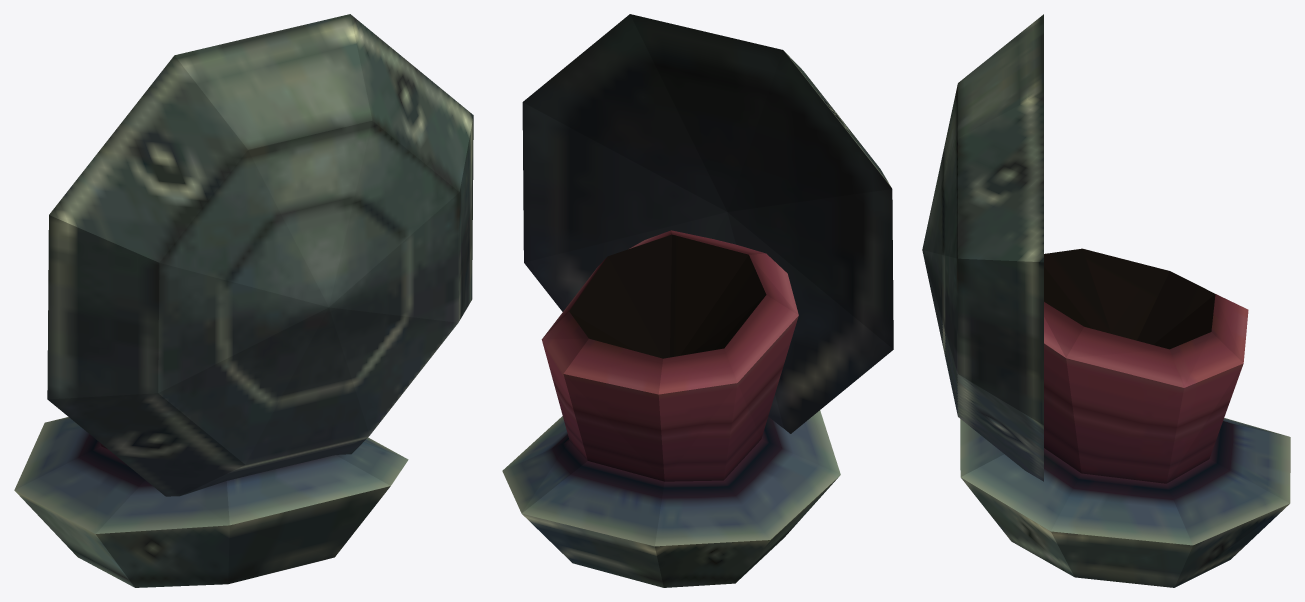
Rendered from Panda_strikeGauntlet_right.obj.
3 views of the same model, side by side, from view 1: azimuth 30°, elevation 25°; view 2: azimuth 150°, elevation 25°; view 3: azimuth 270°, elevation 25° (orthographic). The views are drawn at different scales.
Parts seen in each view (by area): view 1: Panda_strikeGauntlet_tri [right]; view 2: Panda_strikeGauntlet_tri [right]; view 3: Panda_strikeGauntlet_tri [right].
Part boxes in pixels (x1=…): Panda_strikeGauntlet_tri [right]: x1=14, y1=14, x2=473, y2=587; Panda_strikeGauntlet_tri [right]: x1=502, y1=14, x2=893, y2=587; Panda_strikeGauntlet_tri [right]: x1=922, y1=14, x2=1290, y2=587.
Size of the model in its own units: 0.2242 by 0.2926 by 0.1886.
1 material, 1 textured.
